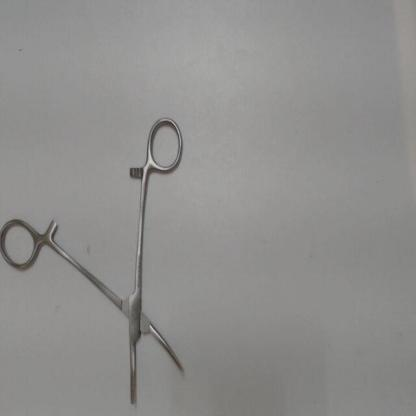Crile Artery Forceps: (2, 109, 190, 408)
